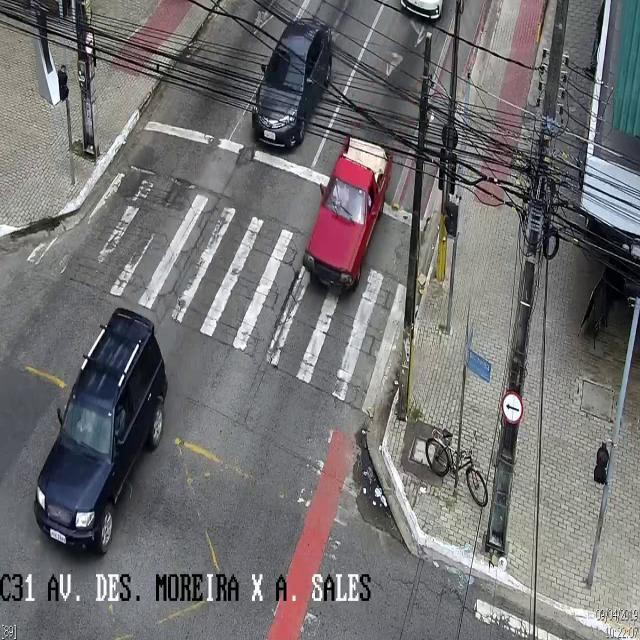Car: (33, 310, 169, 558), (301, 133, 391, 300), (251, 17, 333, 149)
